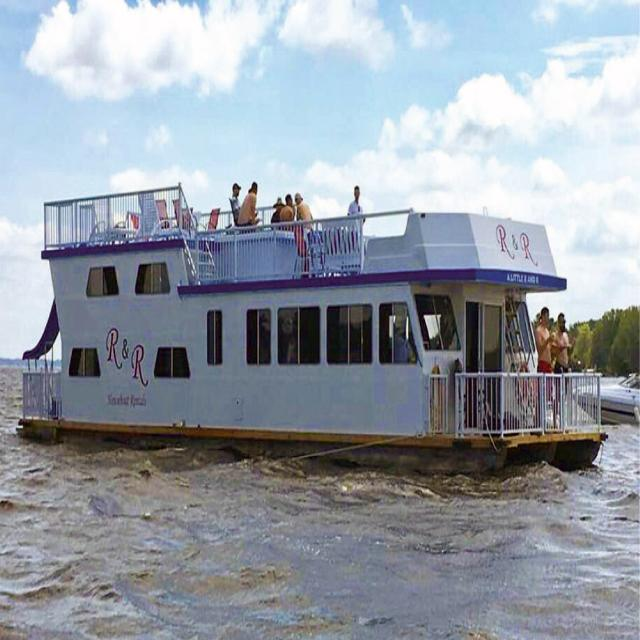houseboat: (35, 136, 606, 451)
